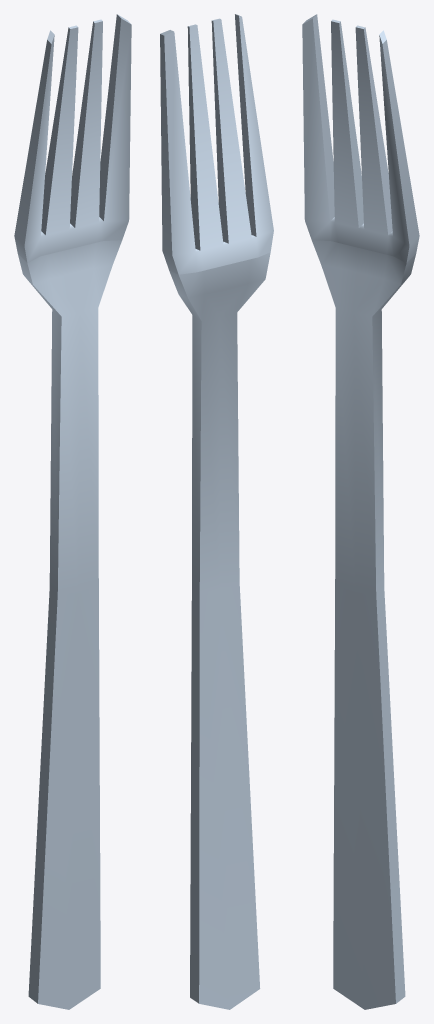
Rendered from garpu.fbx.
3 views of the same model, side by side, from view 1: azimuth 30°, elevation 25°; view 2: azimuth 210°, elevation 25°; view 3: azimuth 330°, elevation 25° (orthographic). The views are drawn at different scales.
Parts seen in each view (by area): view 1: garpu; view 2: garpu; view 3: garpu.
Part boxes in pixels (x1,y1,x2,y2): garpu: (14,14,131,1009); garpu: (160,14,273,1009); garpu: (302,14,419,1009).
Size of the model in its own units: 4.09 by 37.31 by 2.16.
